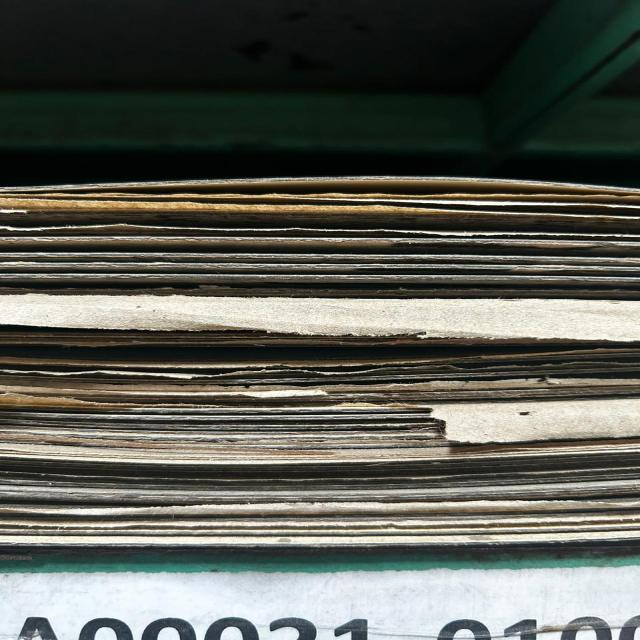sheet: (2, 291, 640, 333), (0, 240, 640, 267), (2, 436, 640, 462), (2, 266, 640, 288), (0, 205, 636, 227), (2, 338, 640, 358), (6, 526, 640, 545), (0, 221, 633, 240), (4, 380, 640, 397), (0, 486, 640, 502), (2, 178, 640, 194), (0, 504, 640, 518), (0, 363, 640, 377), (0, 465, 640, 478), (0, 413, 640, 425), (0, 193, 640, 205), (4, 430, 640, 442), (0, 360, 640, 370)
